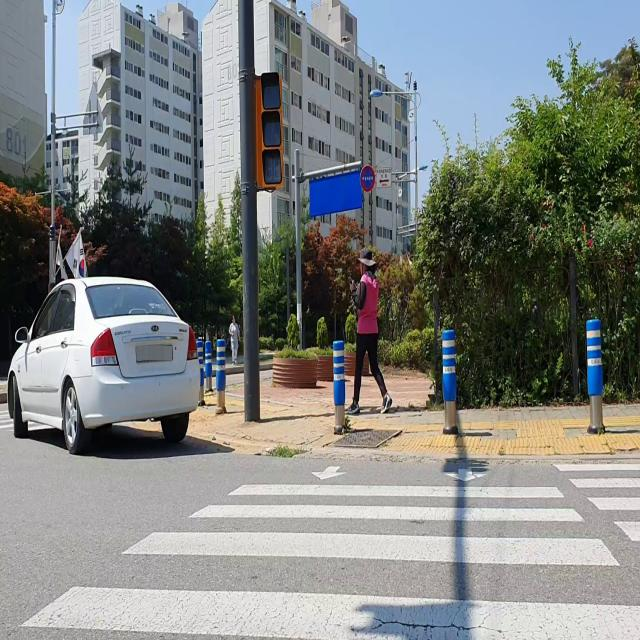횡단보도: (18, 460, 640, 640)
